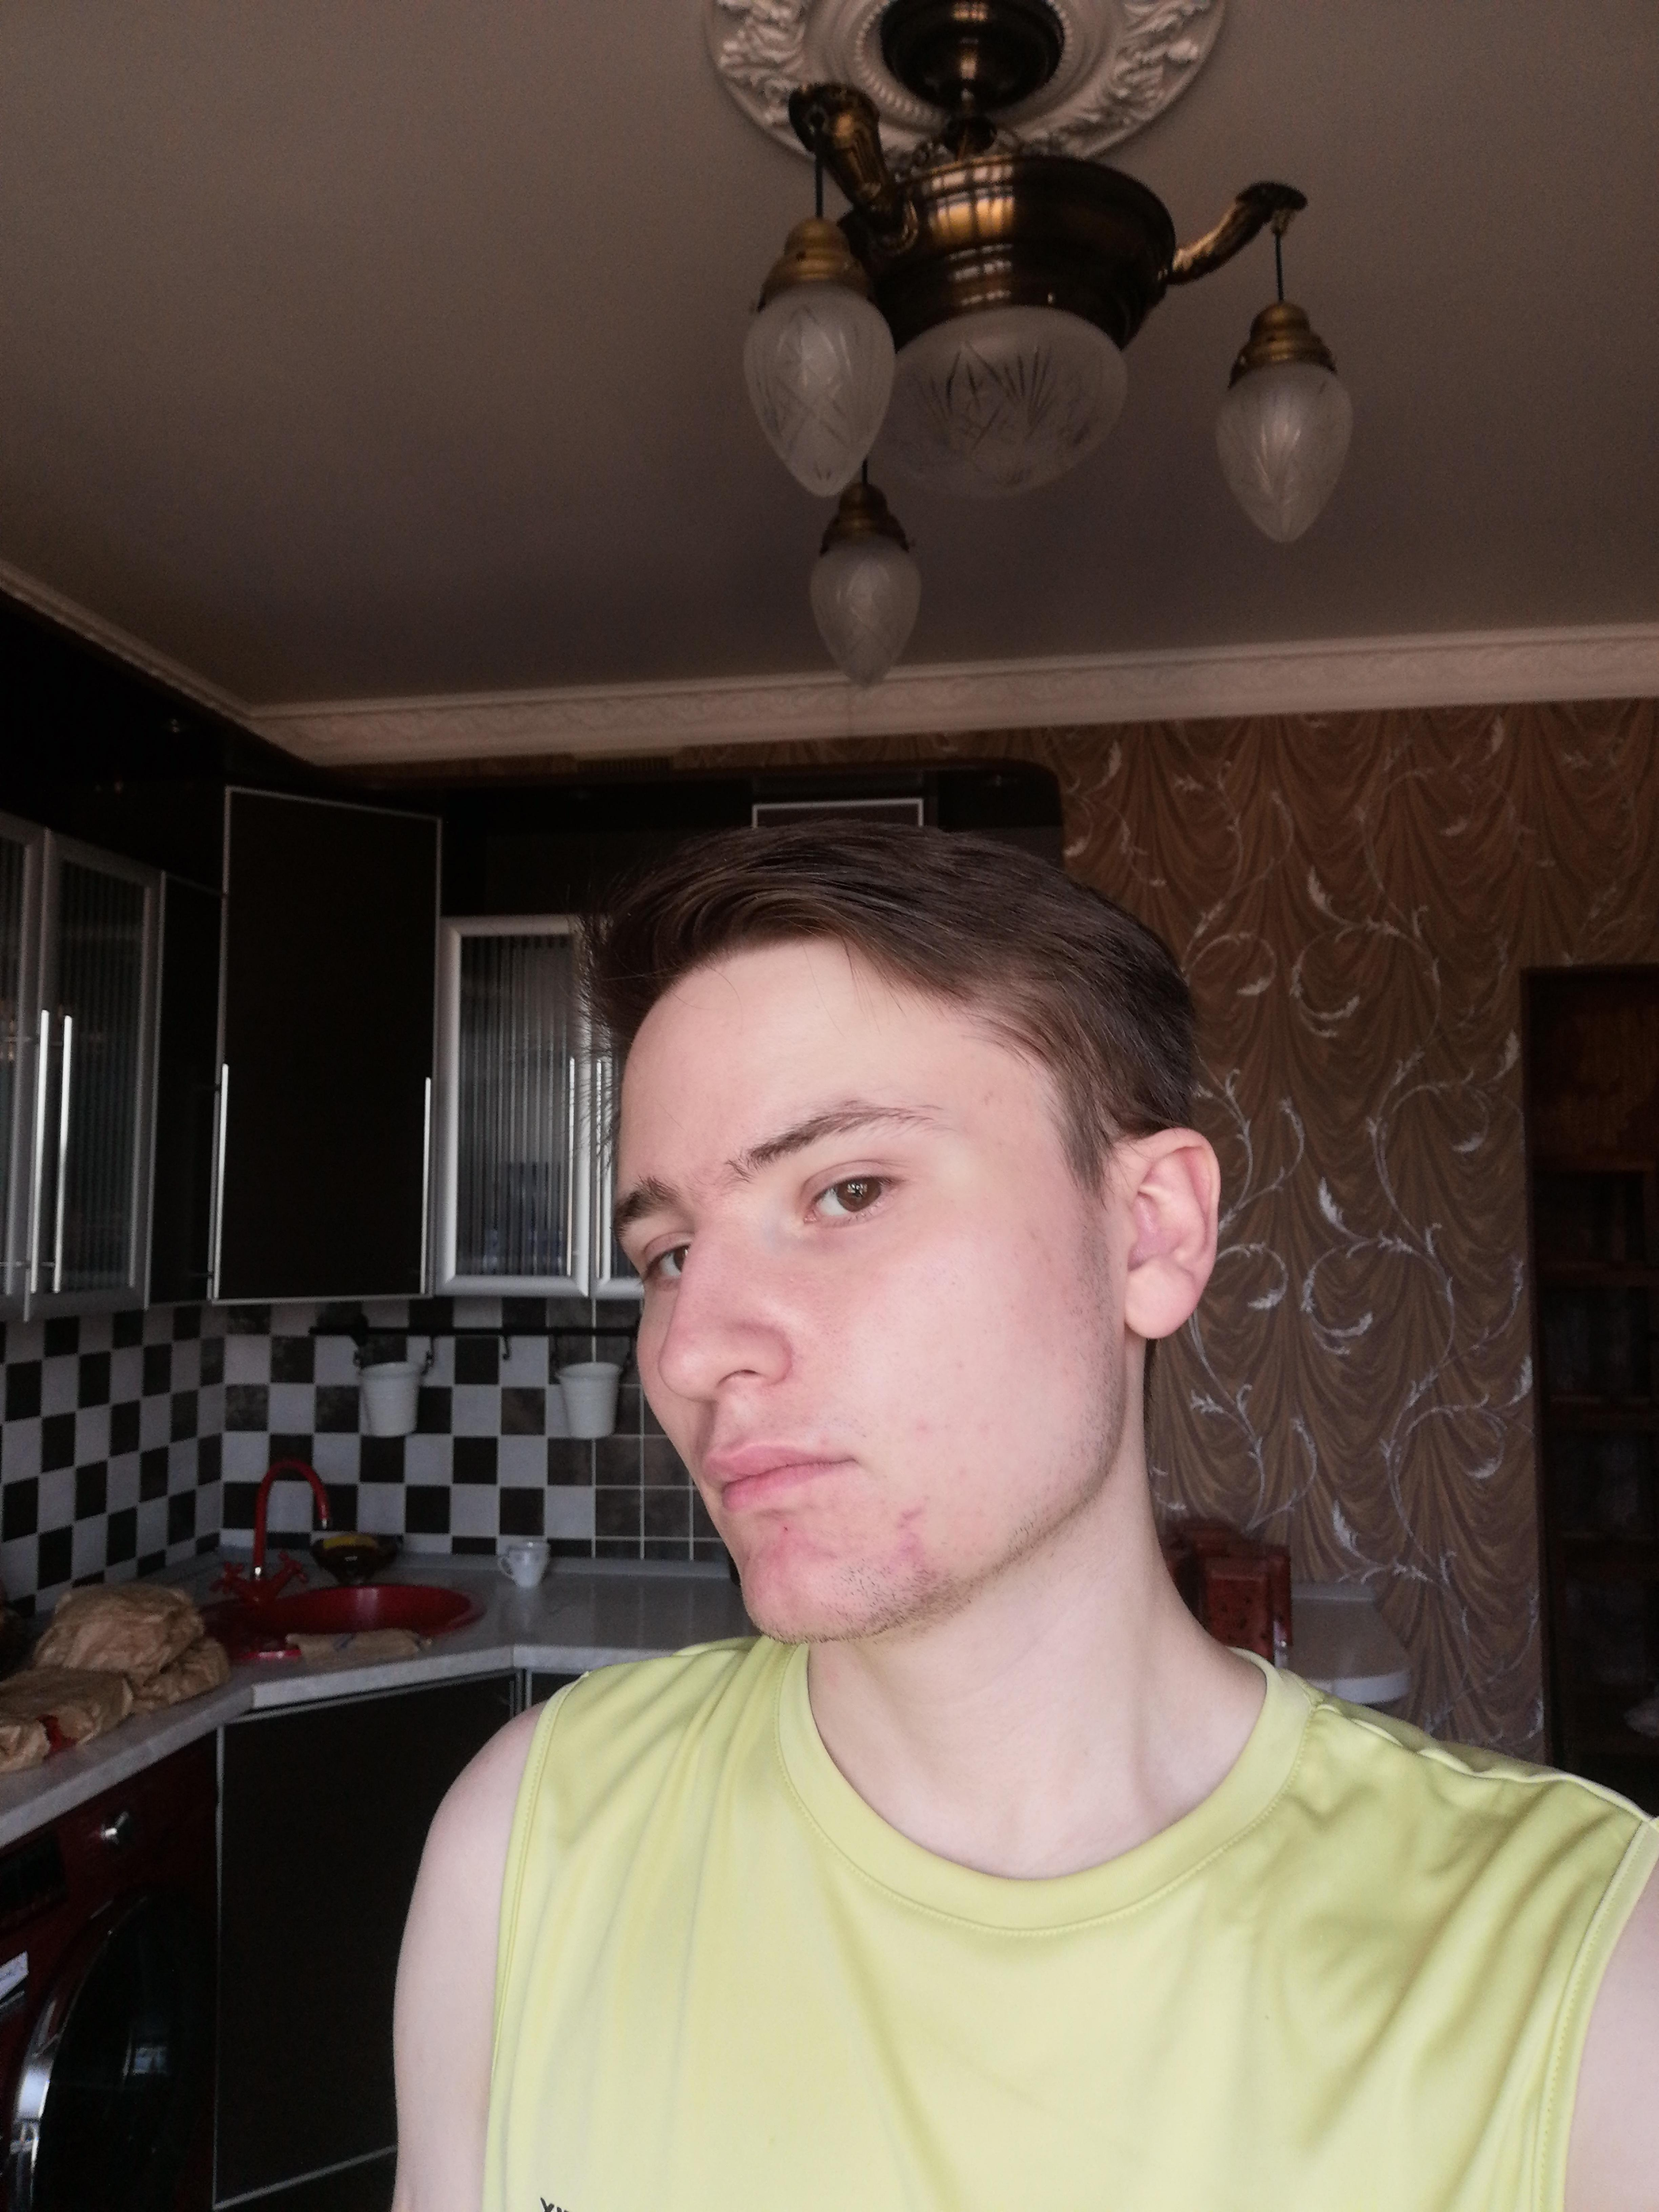Acne: (884, 1529, 924, 1576), (793, 1536, 836, 1566), (894, 1501, 927, 1531), (751, 1547, 788, 1568), (969, 1420, 995, 1442), (911, 1418, 931, 1439), (951, 1461, 967, 1486), (981, 1087, 995, 1109), (816, 1432, 833, 1449), (777, 1519, 791, 1538)
Englarged-Pores: (793, 1268, 887, 1350)
